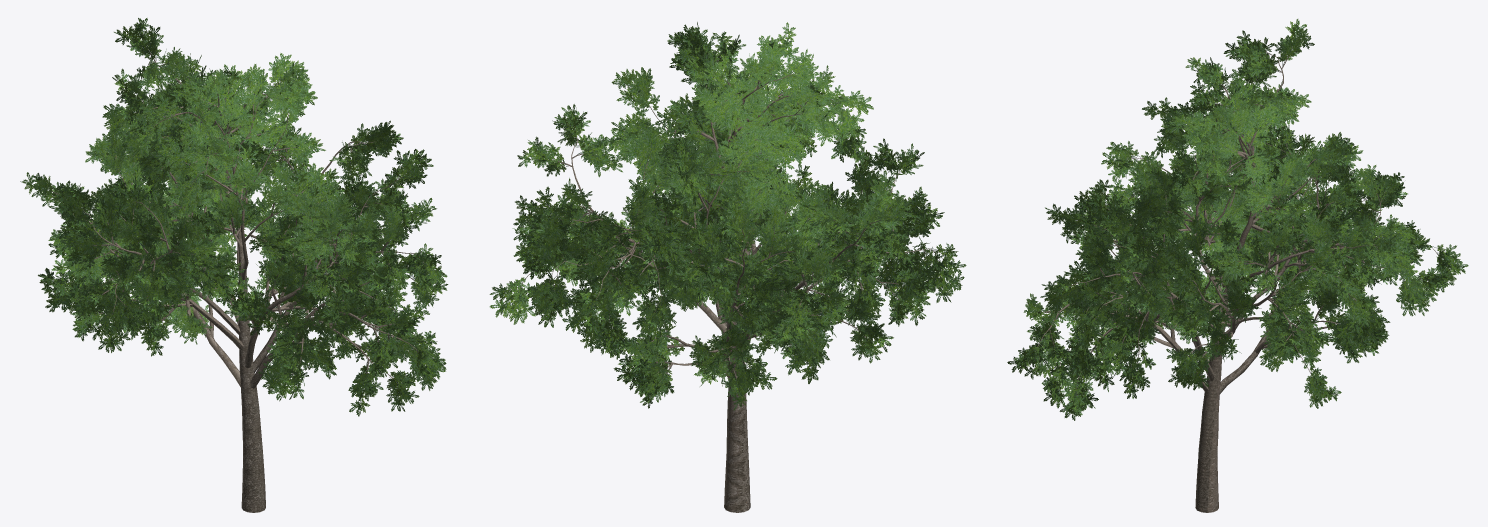
Rendered from park-ash-b.gltf.
3 views of the same model, side by side, from view 1: azimuth 30°, elevation 25°; view 2: azimuth 150°, elevation 25°; view 3: azimuth 270°, elevation 25° (orthographic). The views are drawn at different scales.
Visible parts, largest first — view 1: park-ash-b; view 2: park-ash-b; view 3: park-ash-b.
Boxes of the visible parts, box(x1,y1,x2,y2) form: park-ash-b: box(20, 18, 448, 512); park-ash-b: box(489, 22, 966, 512); park-ash-b: box(1007, 19, 1468, 512).
Bounding box in the file's own units: 0.8309 × 1 × 0.9393.
2 materials, 2 textured.
